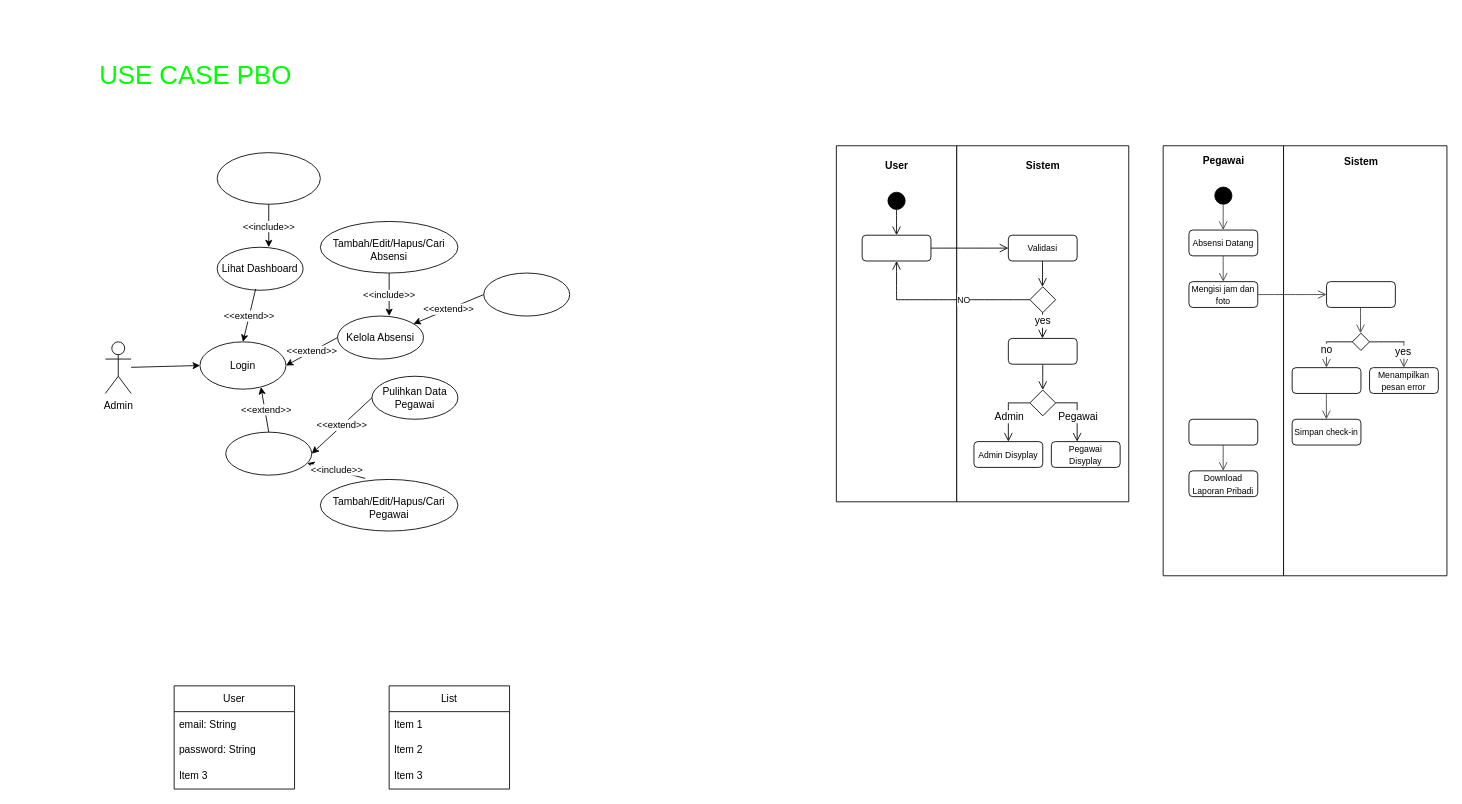
Some shapes in this 1462 by 804 pixel diagram are drawn without their labels. The centre of each missing label's shape, as x and y in pixels:
"Ambil Data Pegawai dan Absensi" goes at point (268, 178).
"Hitung Status" goes at point (1326, 380).
"Kelola Data Pegawai" goes at point (268, 453).
"Lihat Riwayat Absensi Pribadi" goes at point (1223, 431).
"Login Ke Sistem" goes at point (896, 247).
"Pulihkan Data Absensi" goes at point (526, 294).
"Role?" goes at point (1042, 351).
"Validasi Hari (Hari libur/Tidak)" goes at point (1360, 294).
